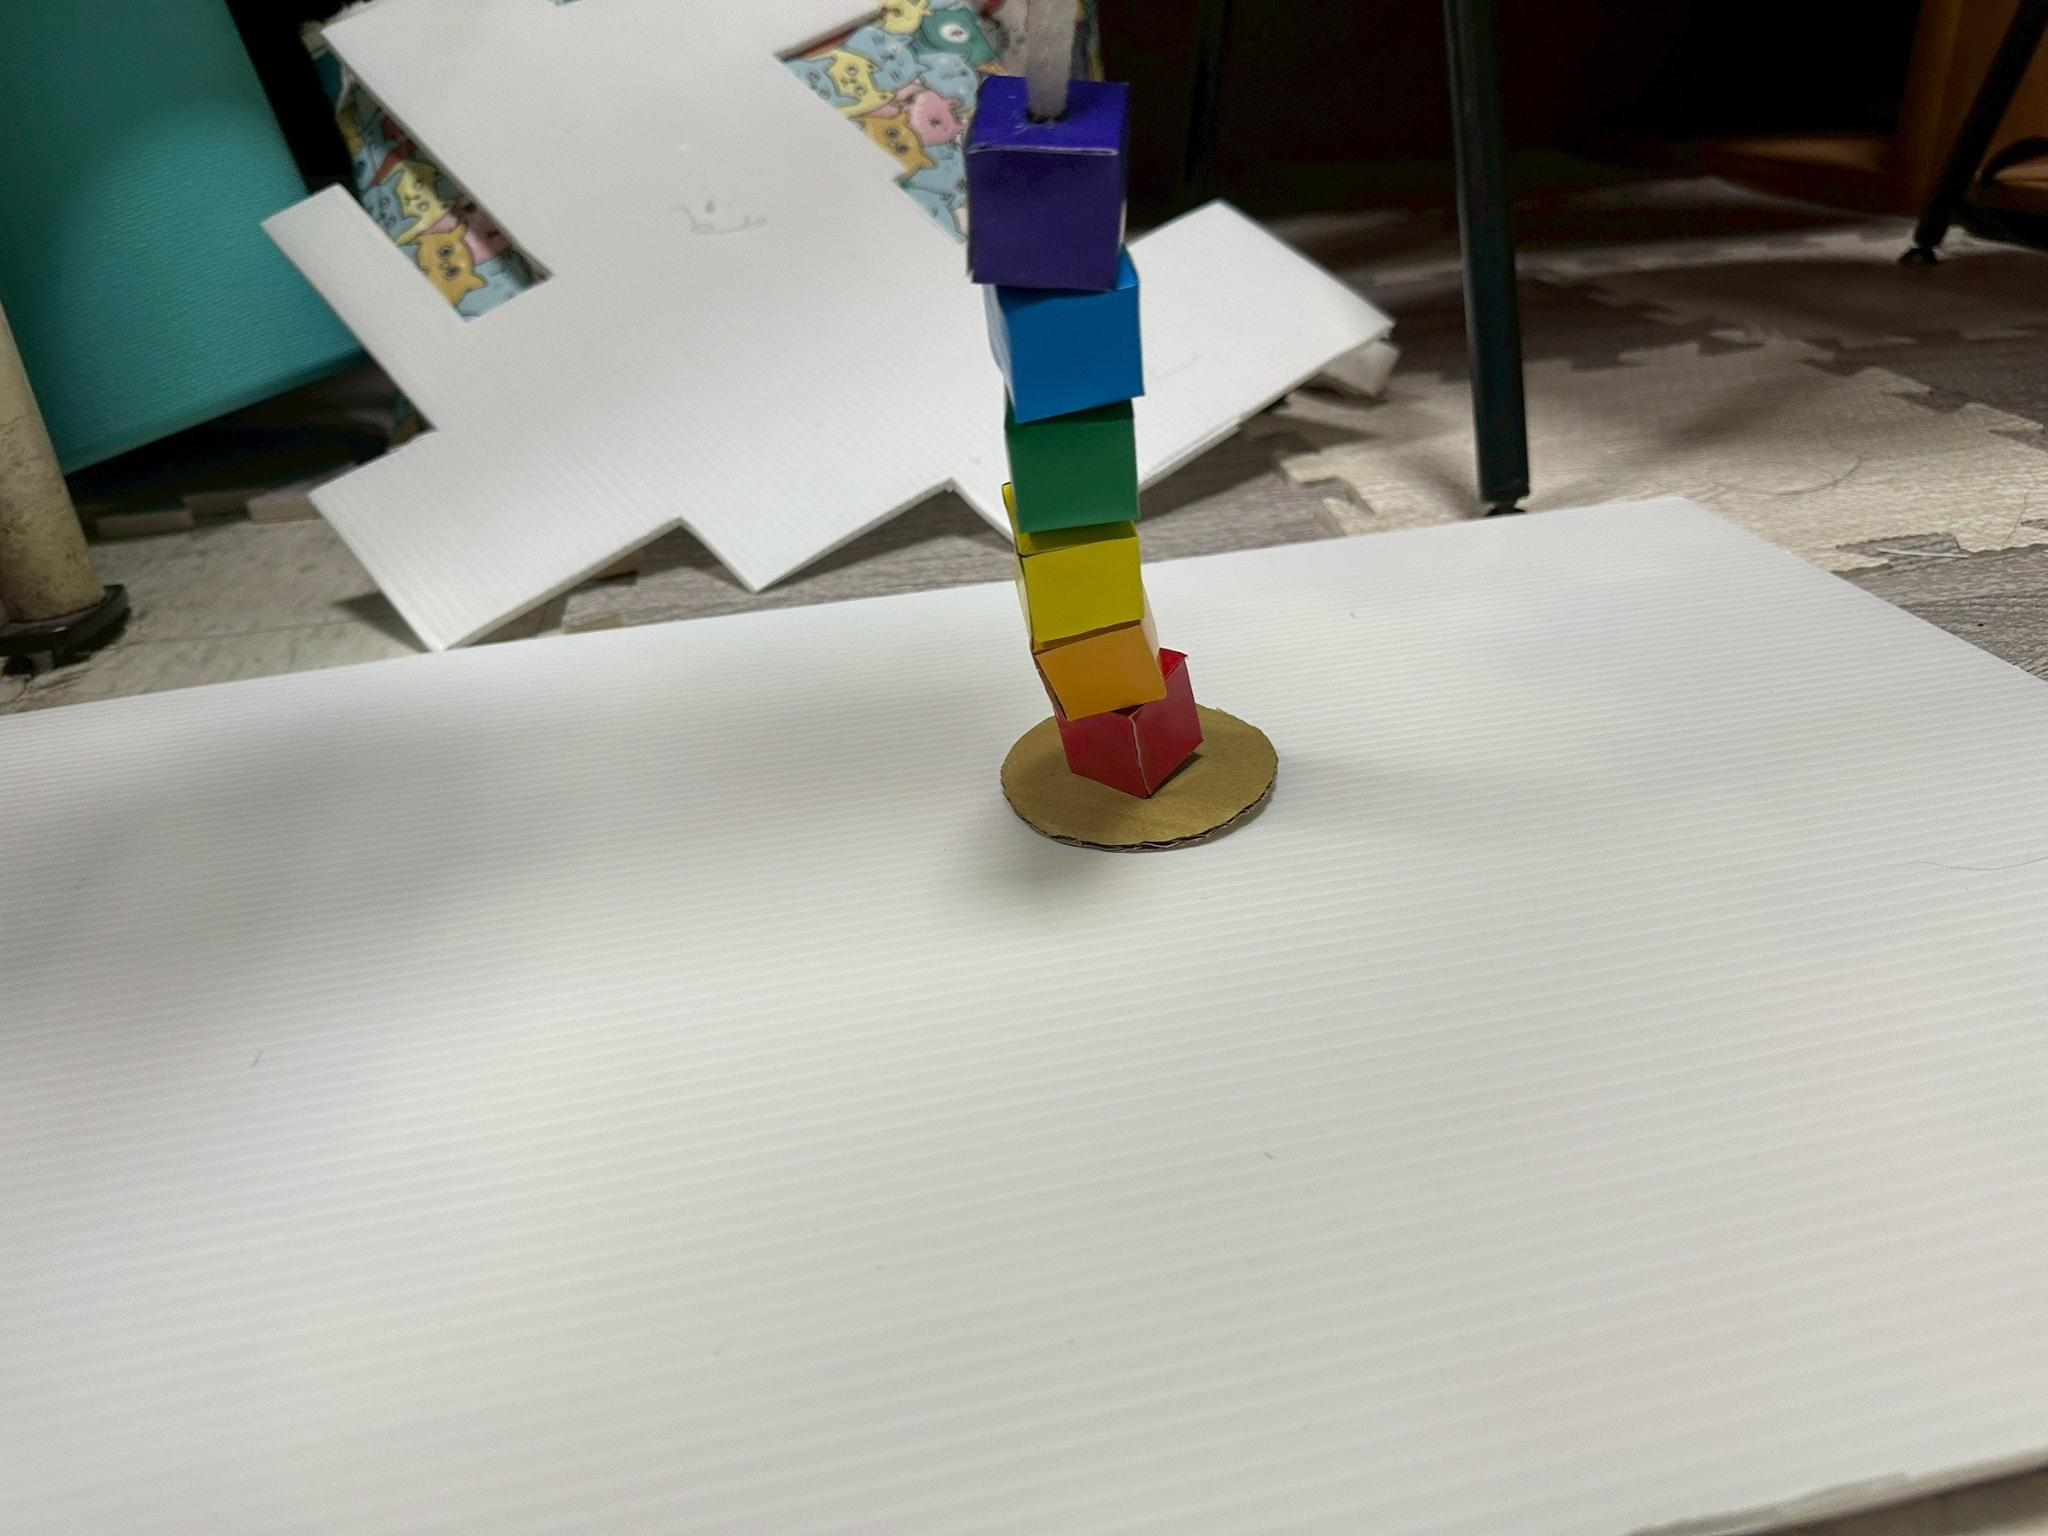base: (1001, 707, 1277, 850)
cube: (964, 76, 1127, 292), (987, 250, 1143, 421), (1003, 484, 1145, 647), (1055, 650, 1203, 799), (1005, 402, 1137, 532), (1034, 623, 1163, 720)
